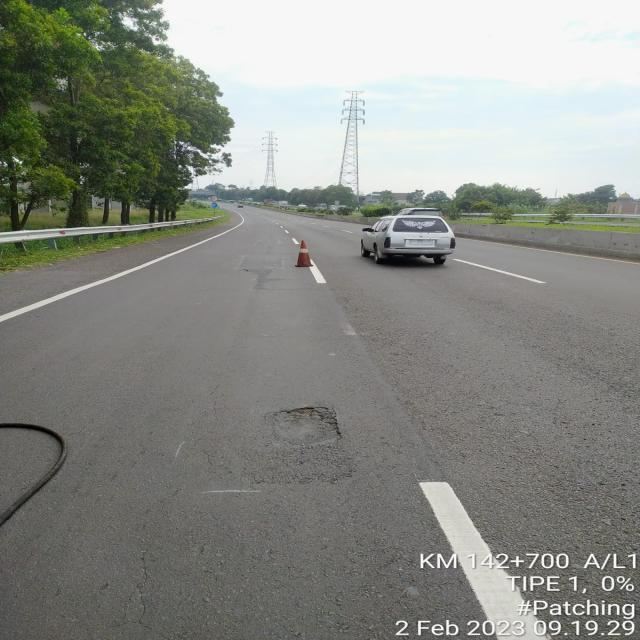Buraco: (277, 405, 344, 438)
